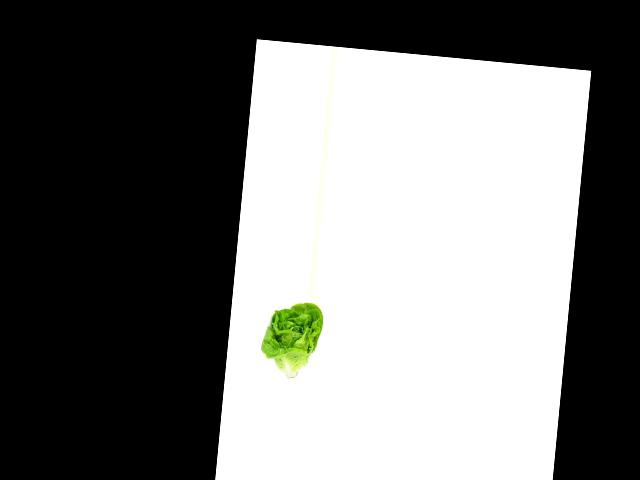lettuce: (254, 298, 326, 383)
